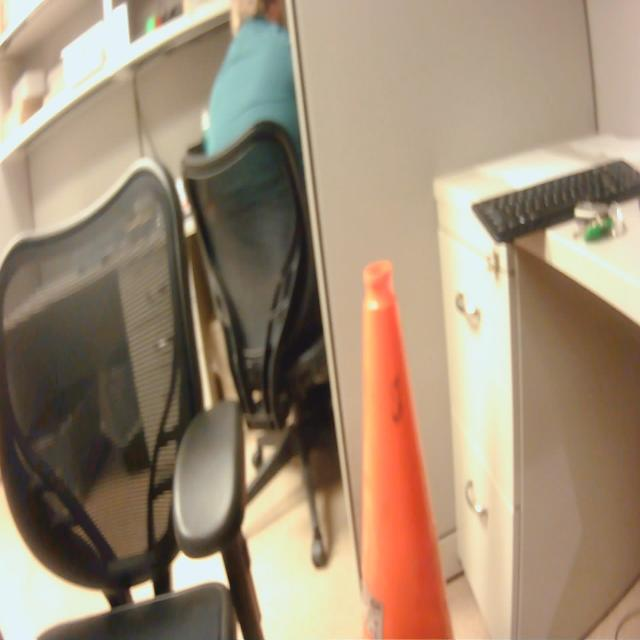traffic cone: (345, 253, 466, 640)
